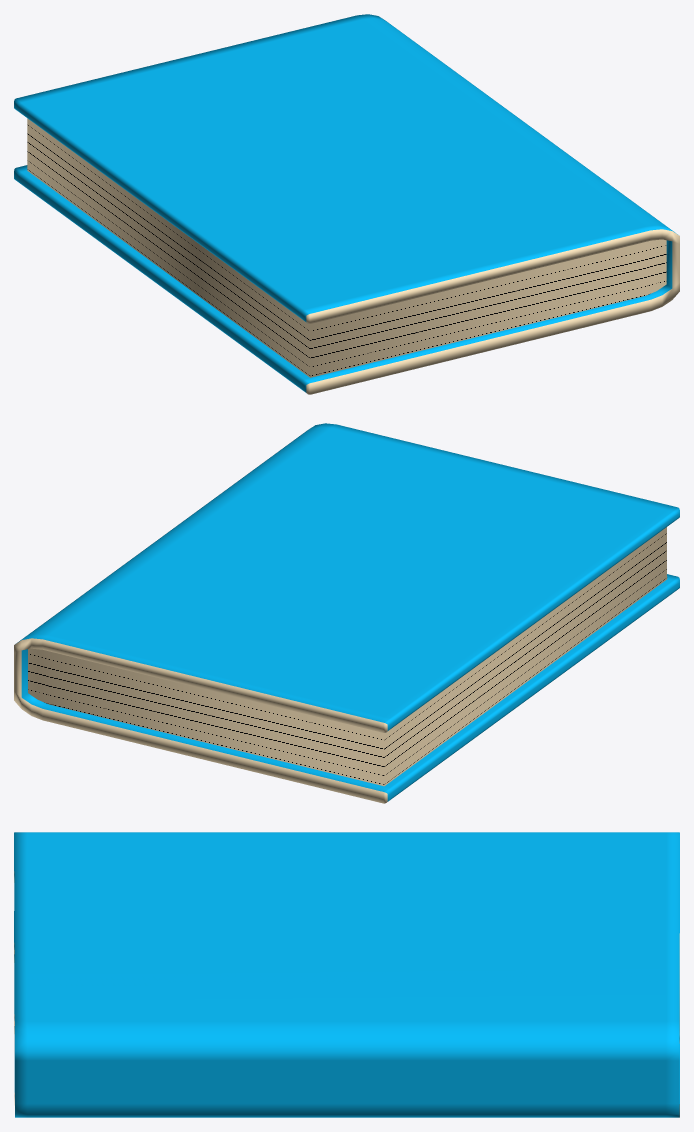
The model's file is book-blue.fbx.
The picture shows the model from 3 angles, top to bottom: view 1: azimuth 30°, elevation 25°; view 2: azimuth 150°, elevation 25°; view 3: azimuth 270°, elevation 25°; orthographic projection. The views are drawn at different scales.
Visible parts, largest first — view 1: book_blue; view 2: book_blue; view 3: book_blue.
Boxes of the visible parts, bbox=[...] form: book_blue: bbox=[14, 14, 679, 394]; book_blue: bbox=[14, 423, 679, 803]; book_blue: bbox=[14, 832, 679, 1117].
Size of the model in its own units: 8.66 by 1.79 by 11.81.
Materials: 1 (1 with a texture image).
